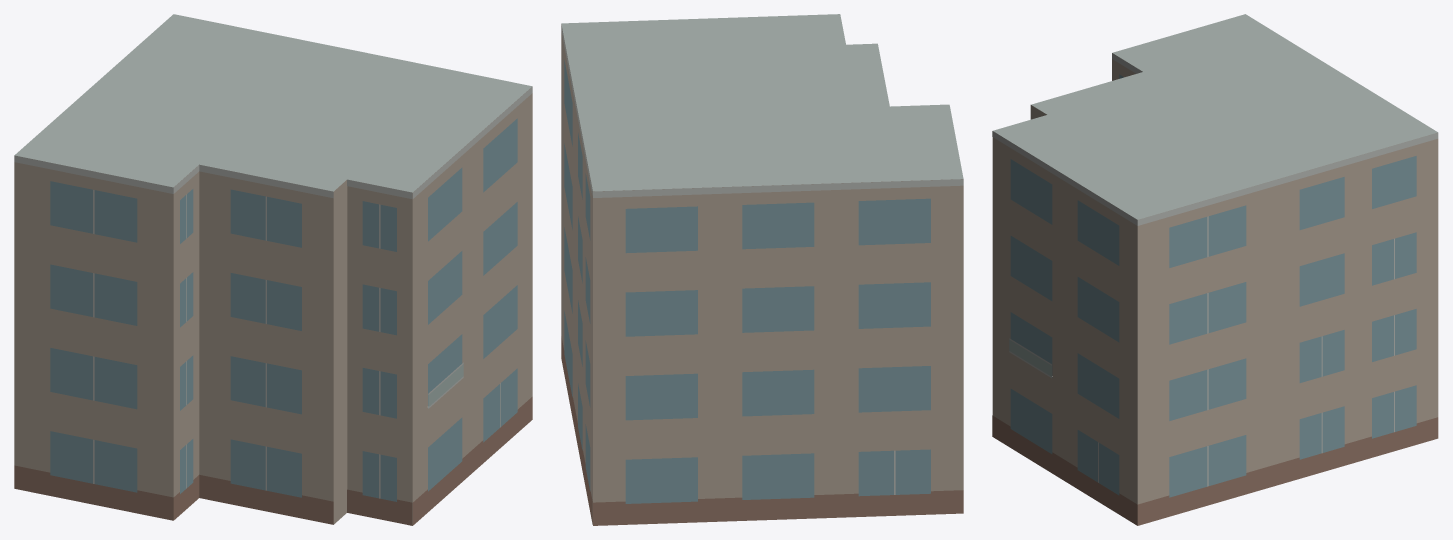
File: residential-d8238c47-e5d3-4d76-8a91-5bea75fc8ae1.glb
3 renders of one model, left to right at view 1: azimuth 30°, elevation 25°; view 2: azimuth 150°, elevation 25°; view 3: azimuth 270°, elevation 25°, orthographic. The views are drawn at different scales.
Visible parts, largest first — view 1: residential-d8238c47-e5d3-4d76-8a91-5bea75fc8ae1.tmp; view 2: residential-d8238c47-e5d3-4d76-8a91-5bea75fc8ae1.tmp; view 3: residential-d8238c47-e5d3-4d76-8a91-5bea75fc8ae1.tmp.
Boxes of the visible parts, x1,y1,x2,y2 form: residential-d8238c47-e5d3-4d76-8a91-5bea75fc8ae1.tmp: (14, 14, 532, 525); residential-d8238c47-e5d3-4d76-8a91-5bea75fc8ae1.tmp: (561, 14, 963, 525); residential-d8238c47-e5d3-4d76-8a91-5bea75fc8ae1.tmp: (992, 14, 1438, 525).
Bounding box in the file's own units: 17.61 × 12.2 × 16.12.
